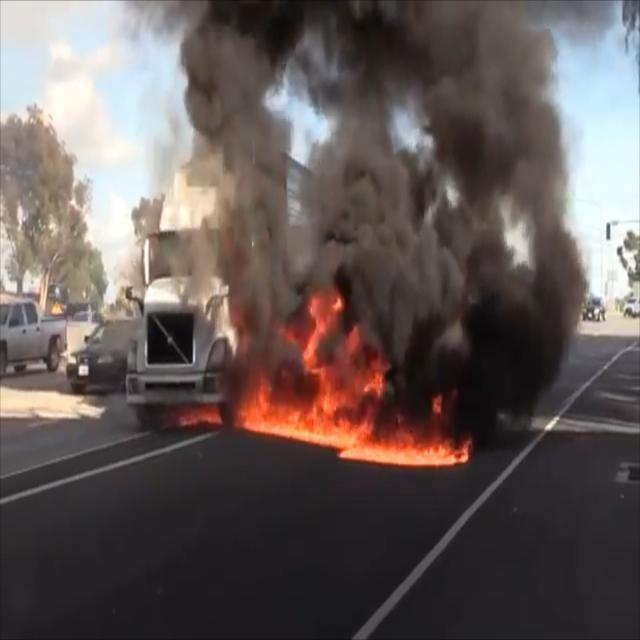fire: (165, 245, 476, 475)
